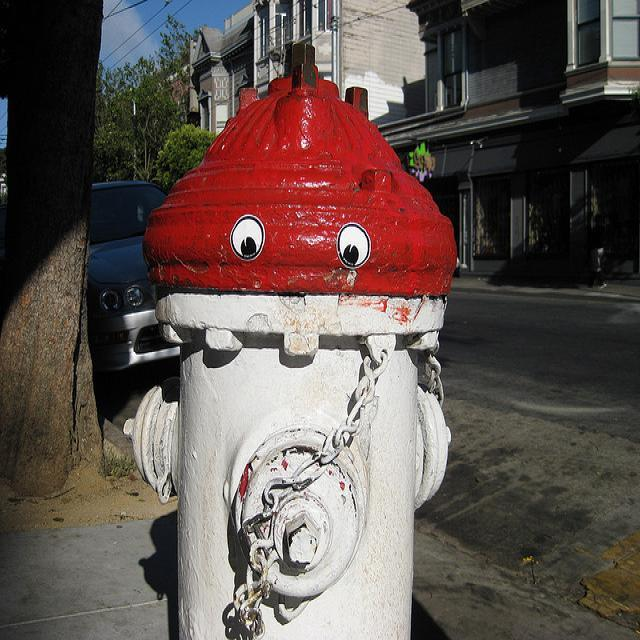fire_hydrant: (120, 37, 462, 640)
